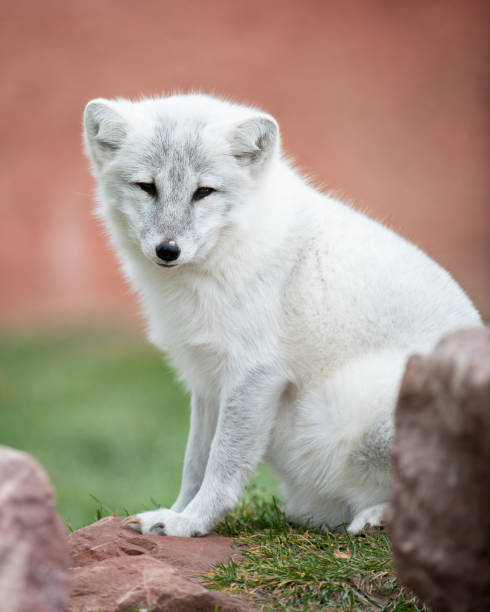arcticfox: (118, 132, 258, 290)
